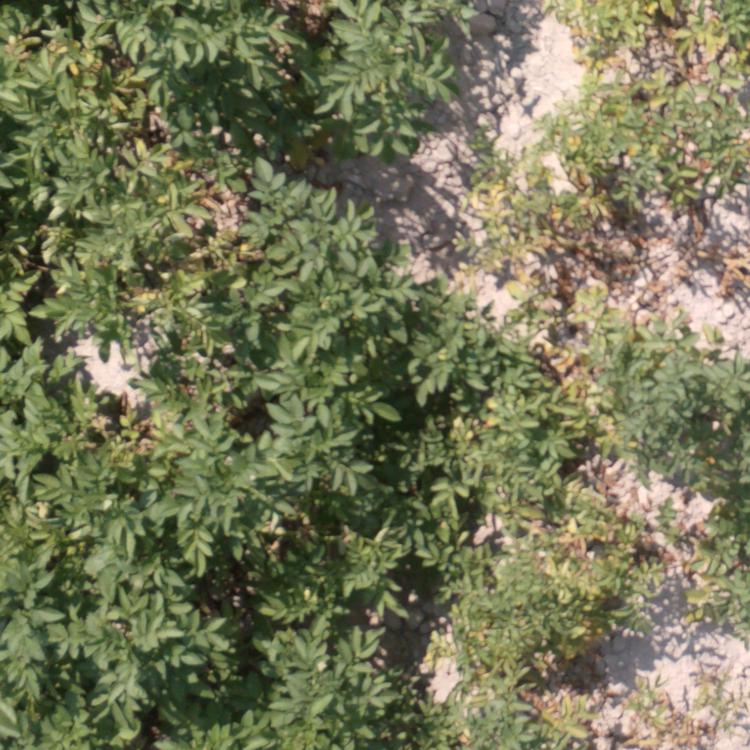healthy: (6, 533, 219, 740), (237, 544, 395, 747), (4, 413, 273, 528), (249, 165, 380, 385), (90, 1, 290, 119), (288, 398, 441, 540), (5, 1, 77, 287), (312, 1, 435, 157), (1, 297, 83, 413)
stressed: (460, 290, 598, 541), (601, 294, 740, 487), (111, 123, 212, 366), (596, 54, 750, 197), (478, 111, 595, 283), (453, 550, 601, 667), (412, 675, 587, 745), (671, 498, 747, 637), (572, 1, 749, 53), (610, 679, 701, 749), (614, 499, 652, 635), (629, 235, 731, 273)
